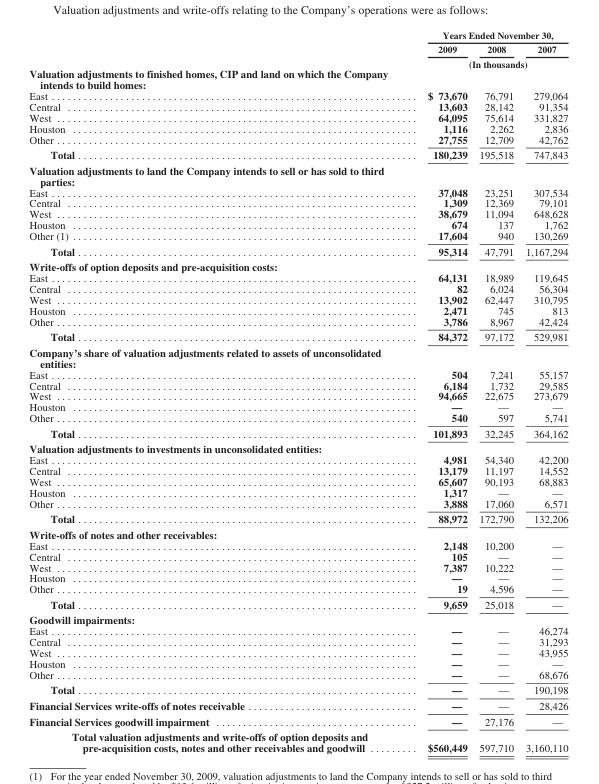table: (28, 29, 567, 753)
table column: (28, 29, 397, 753), (397, 29, 472, 753), (519, 29, 567, 753), (472, 29, 519, 753)
table column header: (28, 29, 567, 68)
table projected row header: (28, 162, 567, 186), (28, 344, 567, 368), (28, 68, 567, 89), (28, 611, 567, 625), (28, 258, 567, 271), (28, 440, 567, 453), (28, 526, 567, 539)
table row: (28, 728, 567, 753), (28, 162, 567, 186), (28, 344, 567, 368), (28, 68, 567, 89), (28, 146, 567, 162), (28, 328, 567, 344), (28, 510, 567, 526), (28, 681, 567, 697), (28, 697, 567, 713), (28, 41, 567, 56), (28, 243, 567, 258), (28, 425, 567, 440), (28, 596, 567, 611), (28, 713, 567, 728), (28, 229, 567, 243), (28, 411, 567, 425), (28, 611, 567, 625), (28, 133, 567, 146), (28, 258, 567, 271), (28, 315, 567, 328), (28, 440, 567, 453), (28, 497, 567, 510), (28, 526, 567, 539), (28, 583, 567, 596), (28, 668, 567, 681), (28, 29, 567, 41), (28, 56, 567, 68), (28, 89, 567, 100), (28, 100, 567, 111), (28, 111, 567, 122), (28, 122, 567, 133), (28, 186, 567, 197), (28, 197, 567, 208), (28, 208, 567, 219), (28, 271, 567, 282), (28, 282, 567, 293), (28, 293, 567, 304), (28, 304, 567, 315), (28, 368, 567, 379), (28, 379, 567, 390), (28, 390, 567, 401), (28, 453, 567, 464), (28, 464, 567, 475), (28, 475, 567, 486), (28, 486, 567, 497), (28, 539, 567, 550), (28, 550, 567, 561), (28, 561, 567, 572), (28, 572, 567, 583), (28, 625, 567, 636), (28, 646, 567, 657), (28, 657, 567, 668), (28, 219, 567, 229), (28, 401, 567, 411), (28, 636, 567, 646)
table spanning cell: (397, 29, 567, 41), (397, 56, 567, 68)
